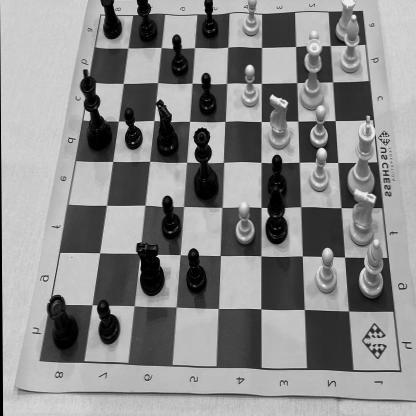black-bishop: (263, 183, 288, 244), (134, 0, 158, 43)
black-king: (78, 67, 112, 151)
black-knight: (134, 240, 164, 298), (154, 99, 178, 158)
black-pawn: (96, 299, 122, 347), (184, 247, 209, 296), (160, 193, 182, 242), (122, 107, 144, 151), (266, 152, 286, 200), (198, 70, 218, 116), (171, 32, 190, 76), (201, 0, 218, 40)
black-queen: (192, 124, 220, 200)
black-rook: (45, 292, 80, 352), (100, 0, 124, 41)
white-bishop: (356, 238, 386, 299), (340, 13, 364, 75)
white-king: (347, 113, 378, 198)
white-knight: (348, 188, 379, 246), (266, 94, 292, 151)
white-pawn: (314, 246, 338, 296), (308, 147, 331, 193), (234, 199, 255, 246), (308, 103, 330, 147), (240, 62, 260, 108), (240, 0, 261, 39), (304, 30, 322, 70)
white-queen: (297, 39, 329, 111)
white-rook: (335, 0, 358, 43)
